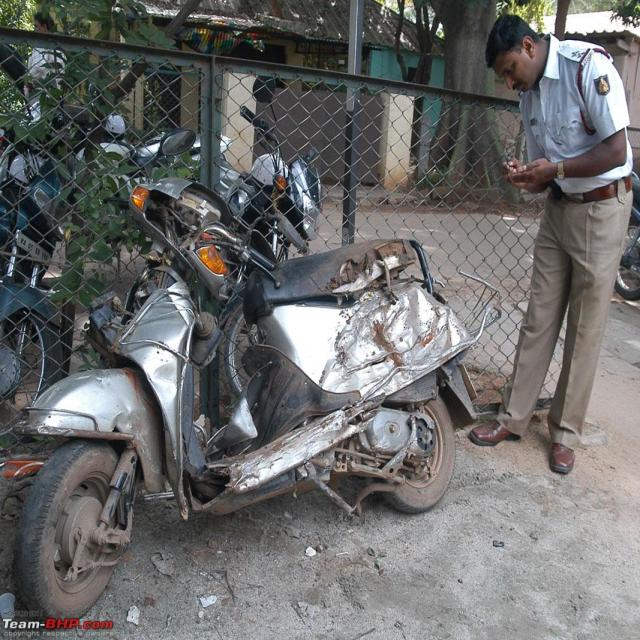accident: (15, 178, 500, 616)
